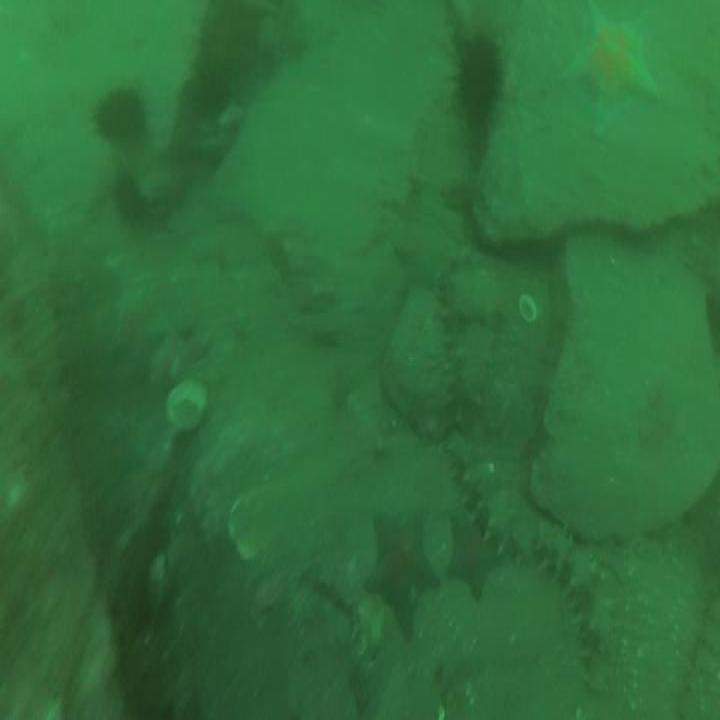echinus: (441, 25, 507, 126), (85, 69, 145, 146)
holothurian: (533, 522, 621, 666), (452, 432, 535, 564), (437, 268, 471, 425)
starfish: (562, 2, 665, 140), (364, 502, 441, 638)
